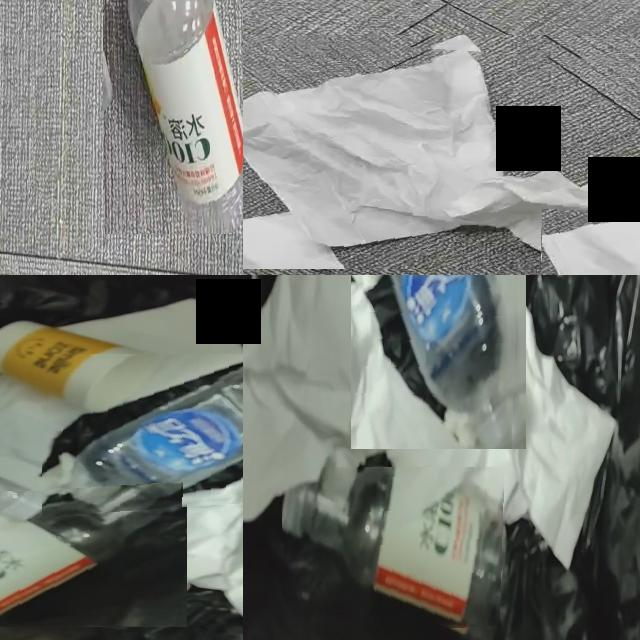bottle: (282, 467, 504, 629), (42, 369, 243, 516), (128, 0, 243, 233), (0, 498, 187, 616), (391, 275, 515, 449)
dixie_cup: (0, 322, 162, 416)
paper: (243, 47, 640, 269), (368, 284, 617, 568), (243, 275, 372, 521), (46, 494, 243, 617), (62, 297, 243, 404), (0, 379, 82, 493)
